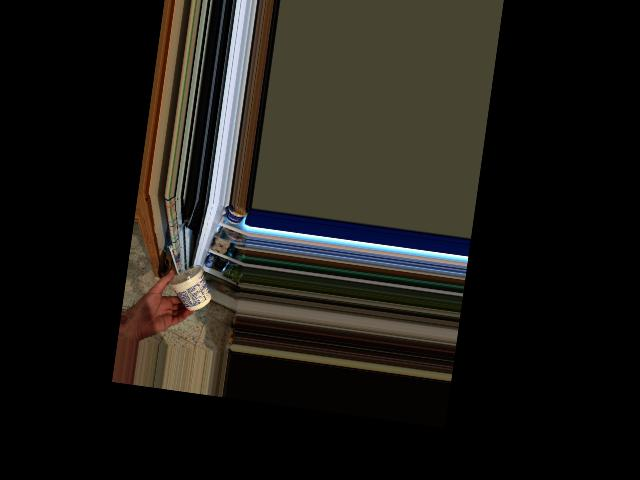cotage: (165, 259, 214, 306)
